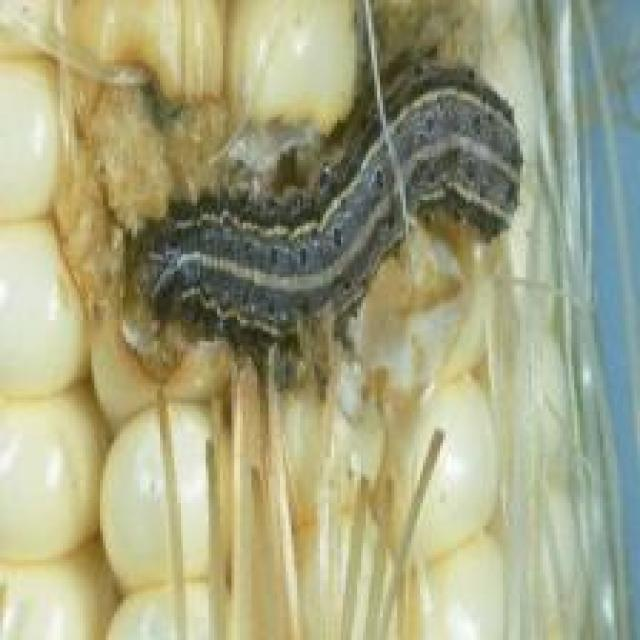Plaga: (124, 44, 549, 352)
